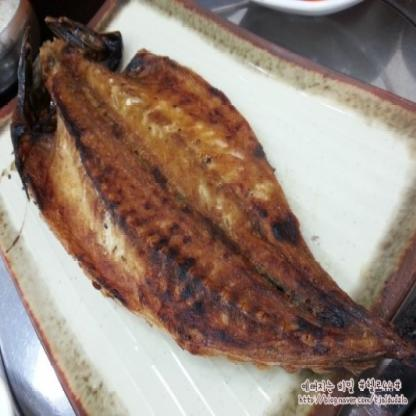Peixe: (6, 17, 416, 393)
